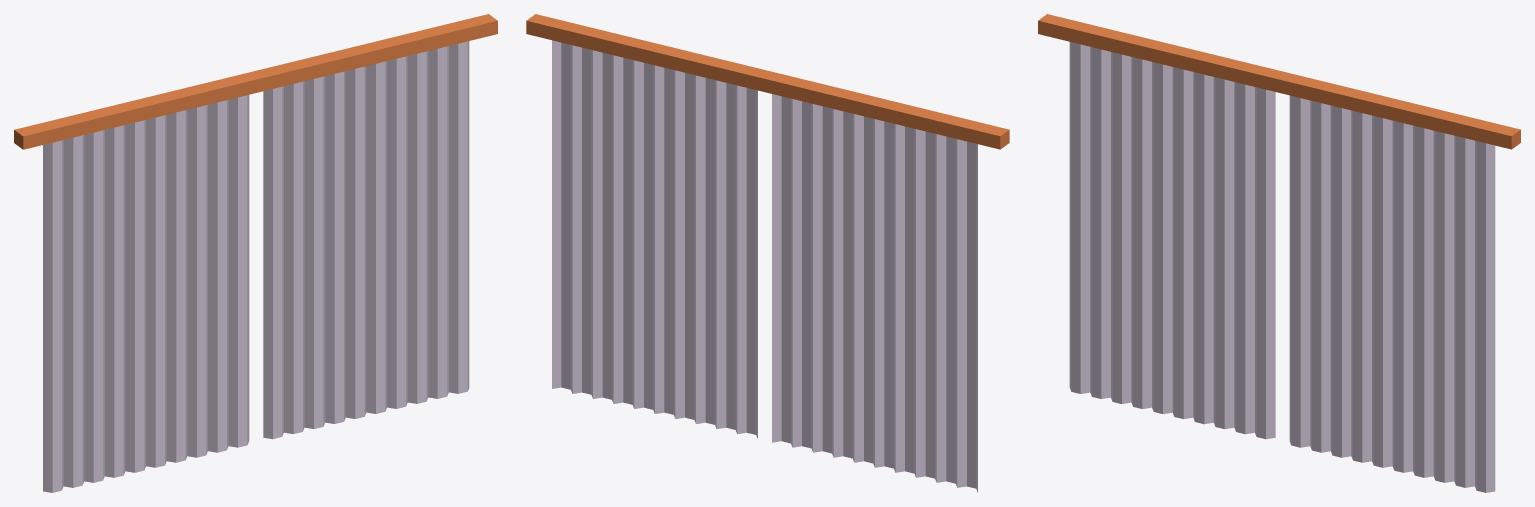
Rendered from Cortinas.fbx.
3 views of the same model, side by side, from view 1: azimuth 30°, elevation 25°; view 2: azimuth 150°, elevation 25°; view 3: azimuth 330°, elevation 25° (orthographic).
Parts seen in each view (by area): view 1: Plane, Plane.001, Cube; view 2: Plane, Plane.001, Cube; view 3: Plane.001, Plane, Cube.
Part boxes in pixels (bbox=[...]): Plane: bbox=[43, 95, 249, 492]; Plane.001: bbox=[263, 41, 469, 439]; Cube: bbox=[14, 14, 497, 149]; Plane: bbox=[772, 94, 977, 492]; Plane.001: bbox=[552, 40, 757, 438]; Cube: bbox=[526, 14, 1009, 149]; Plane.001: bbox=[1289, 95, 1495, 492]; Plane: bbox=[1069, 42, 1275, 439]; Cube: bbox=[1038, 14, 1520, 149].
Bounding box in the file's own units: 775 × 571 × 25.99.
